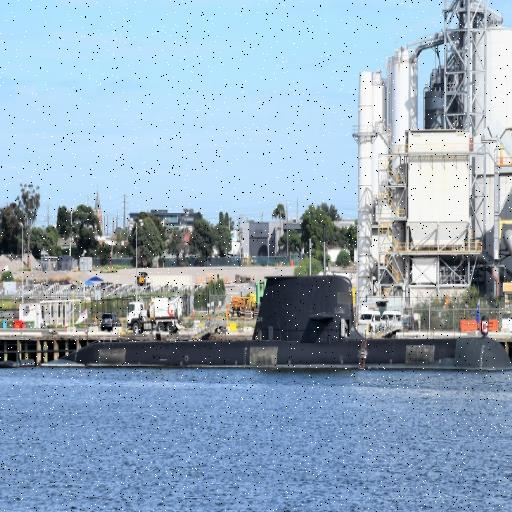submarine: (72, 273, 512, 373)
